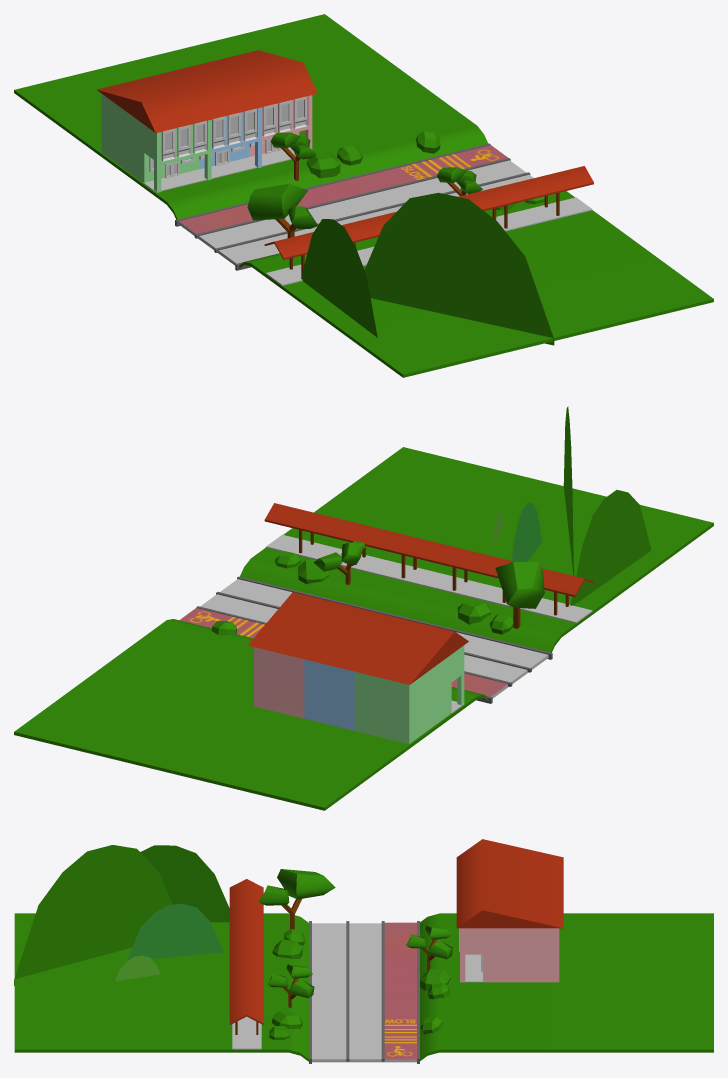
File: Level 1 Chunk 1 V2.fbx
3 views of the same model, one above another, from view 1: azimuth 30°, elevation 25°; view 2: azimuth 150°, elevation 25°; view 3: azimuth 270°, elevation 25° (orthographic). The views are drawn at different scales.
Parts seen in each view (by area): view 1: pCube7966, pCube7964, Triple_shop_houses20, pasted__pasted__pCube5553, pCube7967, pasted__pCube5671, pCube7970, pCube7958, pCube7956, pCube7953, pCube7955, pCube7954 (+4 smaller); view 2: pCube7966, pCube7964, Triple_shop_houses20, pCube7958, pasted__pCube5671, pCube7967, pCube7953, pCube7956, pCube7970, pasted__pasted__pCube5552, pCube7962, pasted__pasted__pCube5553 (+2 smaller); view 3: pCube7966, pCube7964, Triple_shop_houses20, pasted__pasted__pCube5553, pCube7967, pCube7958, pCube7970, pasted__pCube5671, pasted__pasted__pCube5552, pCube7956, pCube7955, pCube7954 (+9 smaller).
Boxes of the visible parts, <box> form: pCube7966: <box>14,14,487,219</box>; pCube7964: <box>239,191,713,377</box>; Triple_shop_houses20: <box>97,50,317,192</box>; pasted__pasted__pCube5553: <box>364,192,554,345</box>; pCube7967: <box>179,160,533,265</box>; pasted__pCube5671: <box>301,219,377,337</box>; pCube7970: <box>179,145,507,233</box>; pCube7958: <box>264,166,593,259</box>; pCube7956: <box>247,183,317,237</box>; pCube7953: <box>266,197,592,285</box>; pCube7955: <box>271,132,316,180</box>; pCube7954: <box>437,167,482,195</box>; pCube7966: <box>14,619,488,810</box>; pCube7964: <box>240,447,713,652</box>; Triple_shop_houses20: <box>248,592,468,743</box>; pCube7958: <box>264,503,593,596</box>; pasted__pCube5671: <box>570,490,651,605</box>; pCube7967: <box>200,579,548,698</box>; pCube7953: <box>266,534,592,623</box>; pCube7956: <box>495,562,544,628</box>; pCube7970: <box>179,608,507,696</box>; pasted__pasted__pCube5552: <box>511,502,541,561</box>; pCube7962: <box>237,576,552,659</box>; pasted__pasted__pCube5553: <box>563,406,573,575</box>; pCube7966: <box>420,913,713,1060</box>; pCube7964: <box>14,913,308,1061</box>; Triple_shop_houses20: <box>456,839,563,982</box>; pasted__pasted__pCube5553: <box>14,845,172,985</box>; pCube7967: <box>312,923,416,1062</box>; pCube7958: <box>229,879,263,1024</box>; pCube7970: <box>384,922,416,1059</box>; pasted__pCube5671: <box>140,845,229,922</box>; pasted__pasted__pCube5552: <box>127,903,223,961</box>; pCube7956: <box>258,869,335,929</box>; pCube7955: <box>406,925,453,971</box>; pCube7954: <box>267,964,314,1007</box>.
Bounding box in the file's own units: 12.39 × 5.11 × 26.58.
3 materials, 3 textured.
